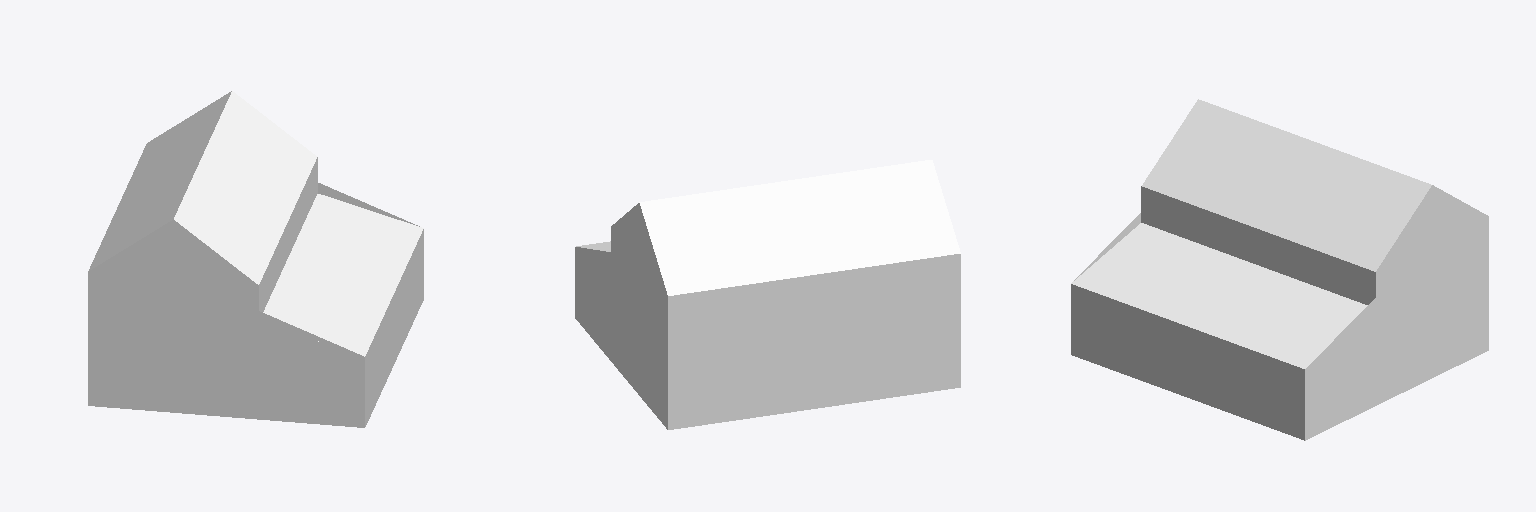
The model's file is house_Shape 343.obj.
3 renders of one model, left to right at view 1: azimuth 30°, elevation 25°; view 2: azimuth 150°, elevation 25°; view 3: azimuth 270°, elevation 25°, orthographic.
Visible parts, largest first — view 1: CityEngineMaterial_12, CityEngineMaterial_131, CityEngineMaterial_45, CityEngineMaterial_219; view 2: CityEngineMaterial_131, CityEngineMaterial_12, CityEngineMaterial_45, CityEngineMaterial_219; view 3: CityEngineMaterial_12, CityEngineMaterial_131, CityEngineMaterial_219, CityEngineMaterial_45.
Part boxes in pixels (bbox=[...]): CityEngineMaterial_12: bbox=[88, 91, 423, 356]; CityEngineMaterial_131: bbox=[88, 157, 423, 427]; CityEngineMaterial_45: bbox=[88, 219, 258, 310]; CityEngineMaterial_219: bbox=[318, 183, 419, 226]; CityEngineMaterial_131: bbox=[668, 279, 960, 429]; CityEngineMaterial_12: bbox=[576, 160, 960, 295]; CityEngineMaterial_45: bbox=[611, 203, 960, 321]; CityEngineMaterial_219: bbox=[575, 247, 667, 429]; CityEngineMaterial_12: bbox=[1071, 99, 1431, 368]; CityEngineMaterial_131: bbox=[1071, 186, 1375, 440]; CityEngineMaterial_219: bbox=[1305, 242, 1488, 440]; CityEngineMaterial_45: bbox=[1376, 185, 1488, 296].
Size of the model in its own units: 15.63 by 8 by 15.68.